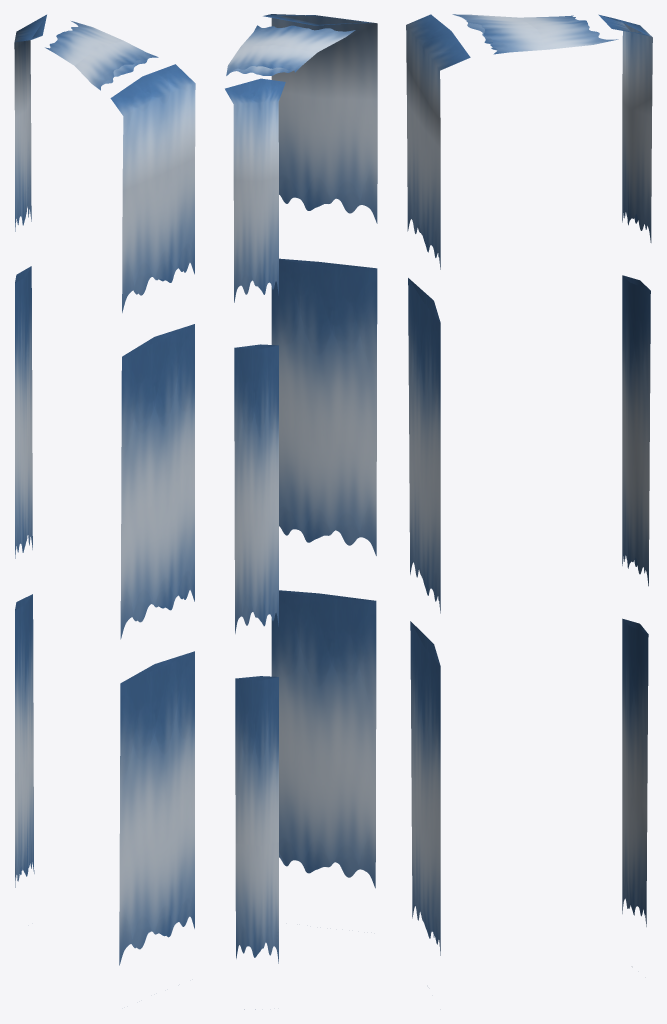
Rendered from Ile_7_Riviere.FBX.
The picture shows the model from 3 angles, left to right: view 1: azimuth 30°, elevation 25°; view 2: azimuth 150°, elevation 25°; view 3: azimuth 270°, elevation 25°; orthographic projection. The views are drawn at different scales.
Visible parts, largest first — view 1: Ile_7_Riviere; view 2: Ile_7_Riviere; view 3: Ile_7_Riviere.
Part boxes in pixels (x1,y1,x2,y2): Ile_7_Riviere: (14,14,195,965); Ile_7_Riviere: (225,14,377,1009); Ile_7_Riviere: (406,14,652,955).
Bounding box in the file's own units: 878 × 8131 × 1904.
